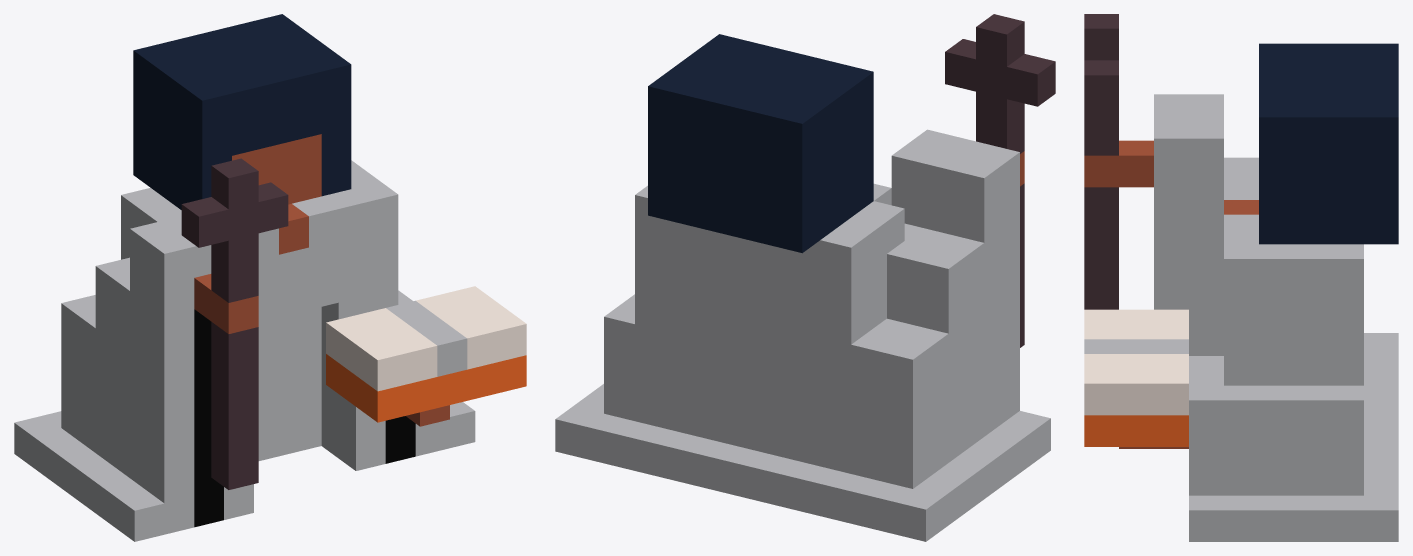
File: priestess_action_1.obj
The picture shows the model from 3 angles, left to right: view 1: azimuth 30°, elevation 25°; view 2: azimuth 150°, elevation 25°; view 3: azimuth 270°, elevation 25°; orthographic projection. The views are drawn at different scales.
Size of the model in its own units: 1.2 by 1.2 by 0.9.
Materials: 1 (1 with a texture image).
